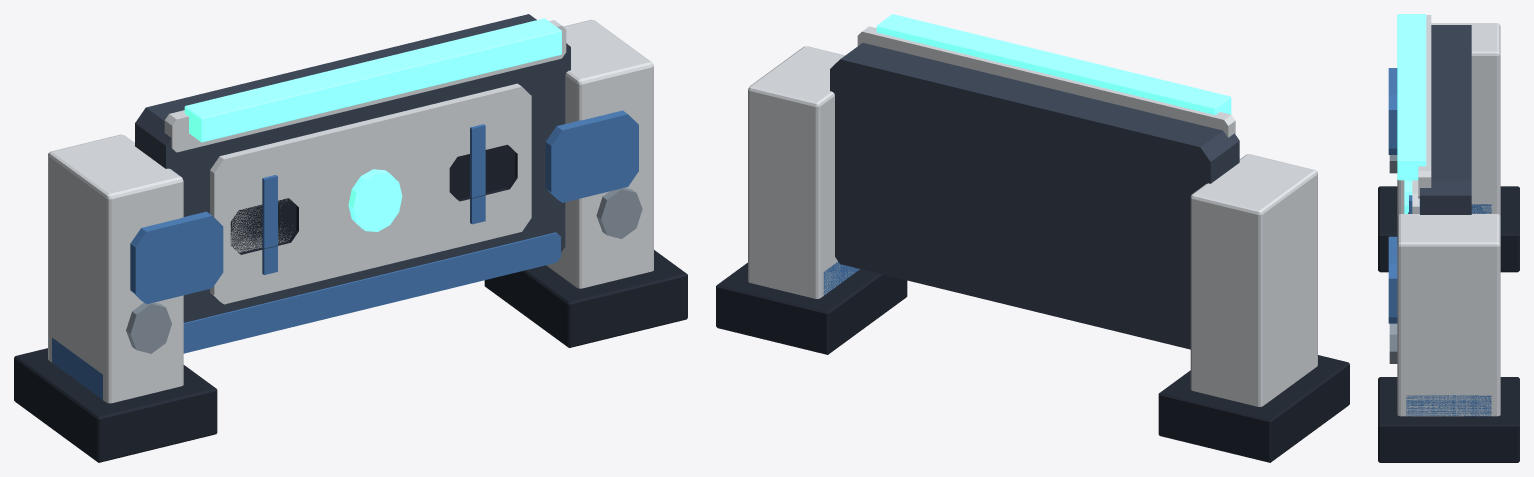
File: barricade__intact.glb
The picture shows the model from 3 angles, left to right: view 1: azimuth 30°, elevation 25°; view 2: azimuth 150°, elevation 25°; view 3: azimuth 270°, elevation 25°; orthographic projection. The views are drawn at different scales.
Visible parts, largest first — view 1: ROLE_secondary, ROLE_accent, ROLE_rubber, ROLE_primary, ROLE_interaction, ROLE_bareMetal; view 2: ROLE_primary, ROLE_secondary, ROLE_rubber, ROLE_interaction; view 3: ROLE_secondary, ROLE_rubber, ROLE_primary, ROLE_interaction, ROLE_accent, ROLE_bareMetal.
Part boxes in pixels (<box>): ROLE_secondary: <box>48,19,653,403</box>; ROLE_accent: <box>52,110,638,399</box>; ROLE_rubber: <box>14,144,687,462</box>; ROLE_primary: <box>135,14,570,322</box>; ROLE_interaction: <box>184,18,561,231</box>; ROLE_bareMetal: <box>126,187,642,353</box>; ROLE_primary: <box>830,43,1239,349</box>; ROLE_secondary: <box>748,26,1317,406</box>; ROLE_rubber: <box>716,262,1349,462</box>; ROLE_interaction: <box>876,14,1231,114</box>; ROLE_secondary: <box>1397,15,1500,416</box>; ROLE_rubber: <box>1378,186,1519,462</box>; ROLE_primary: <box>1420,25,1471,214</box>; ROLE_interaction: <box>1397,14,1426,213</box>; ROLE_accent: <box>1388,68,1491,416</box>; ROLE_bareMetal: <box>1389,155,1397,363</box>.
Bounding box in the file's own units: 8 × 4 × 2.
